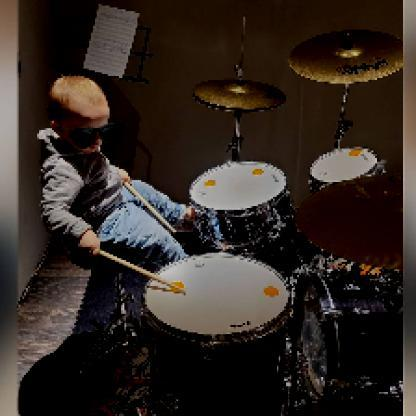child: (36, 75, 198, 267)
